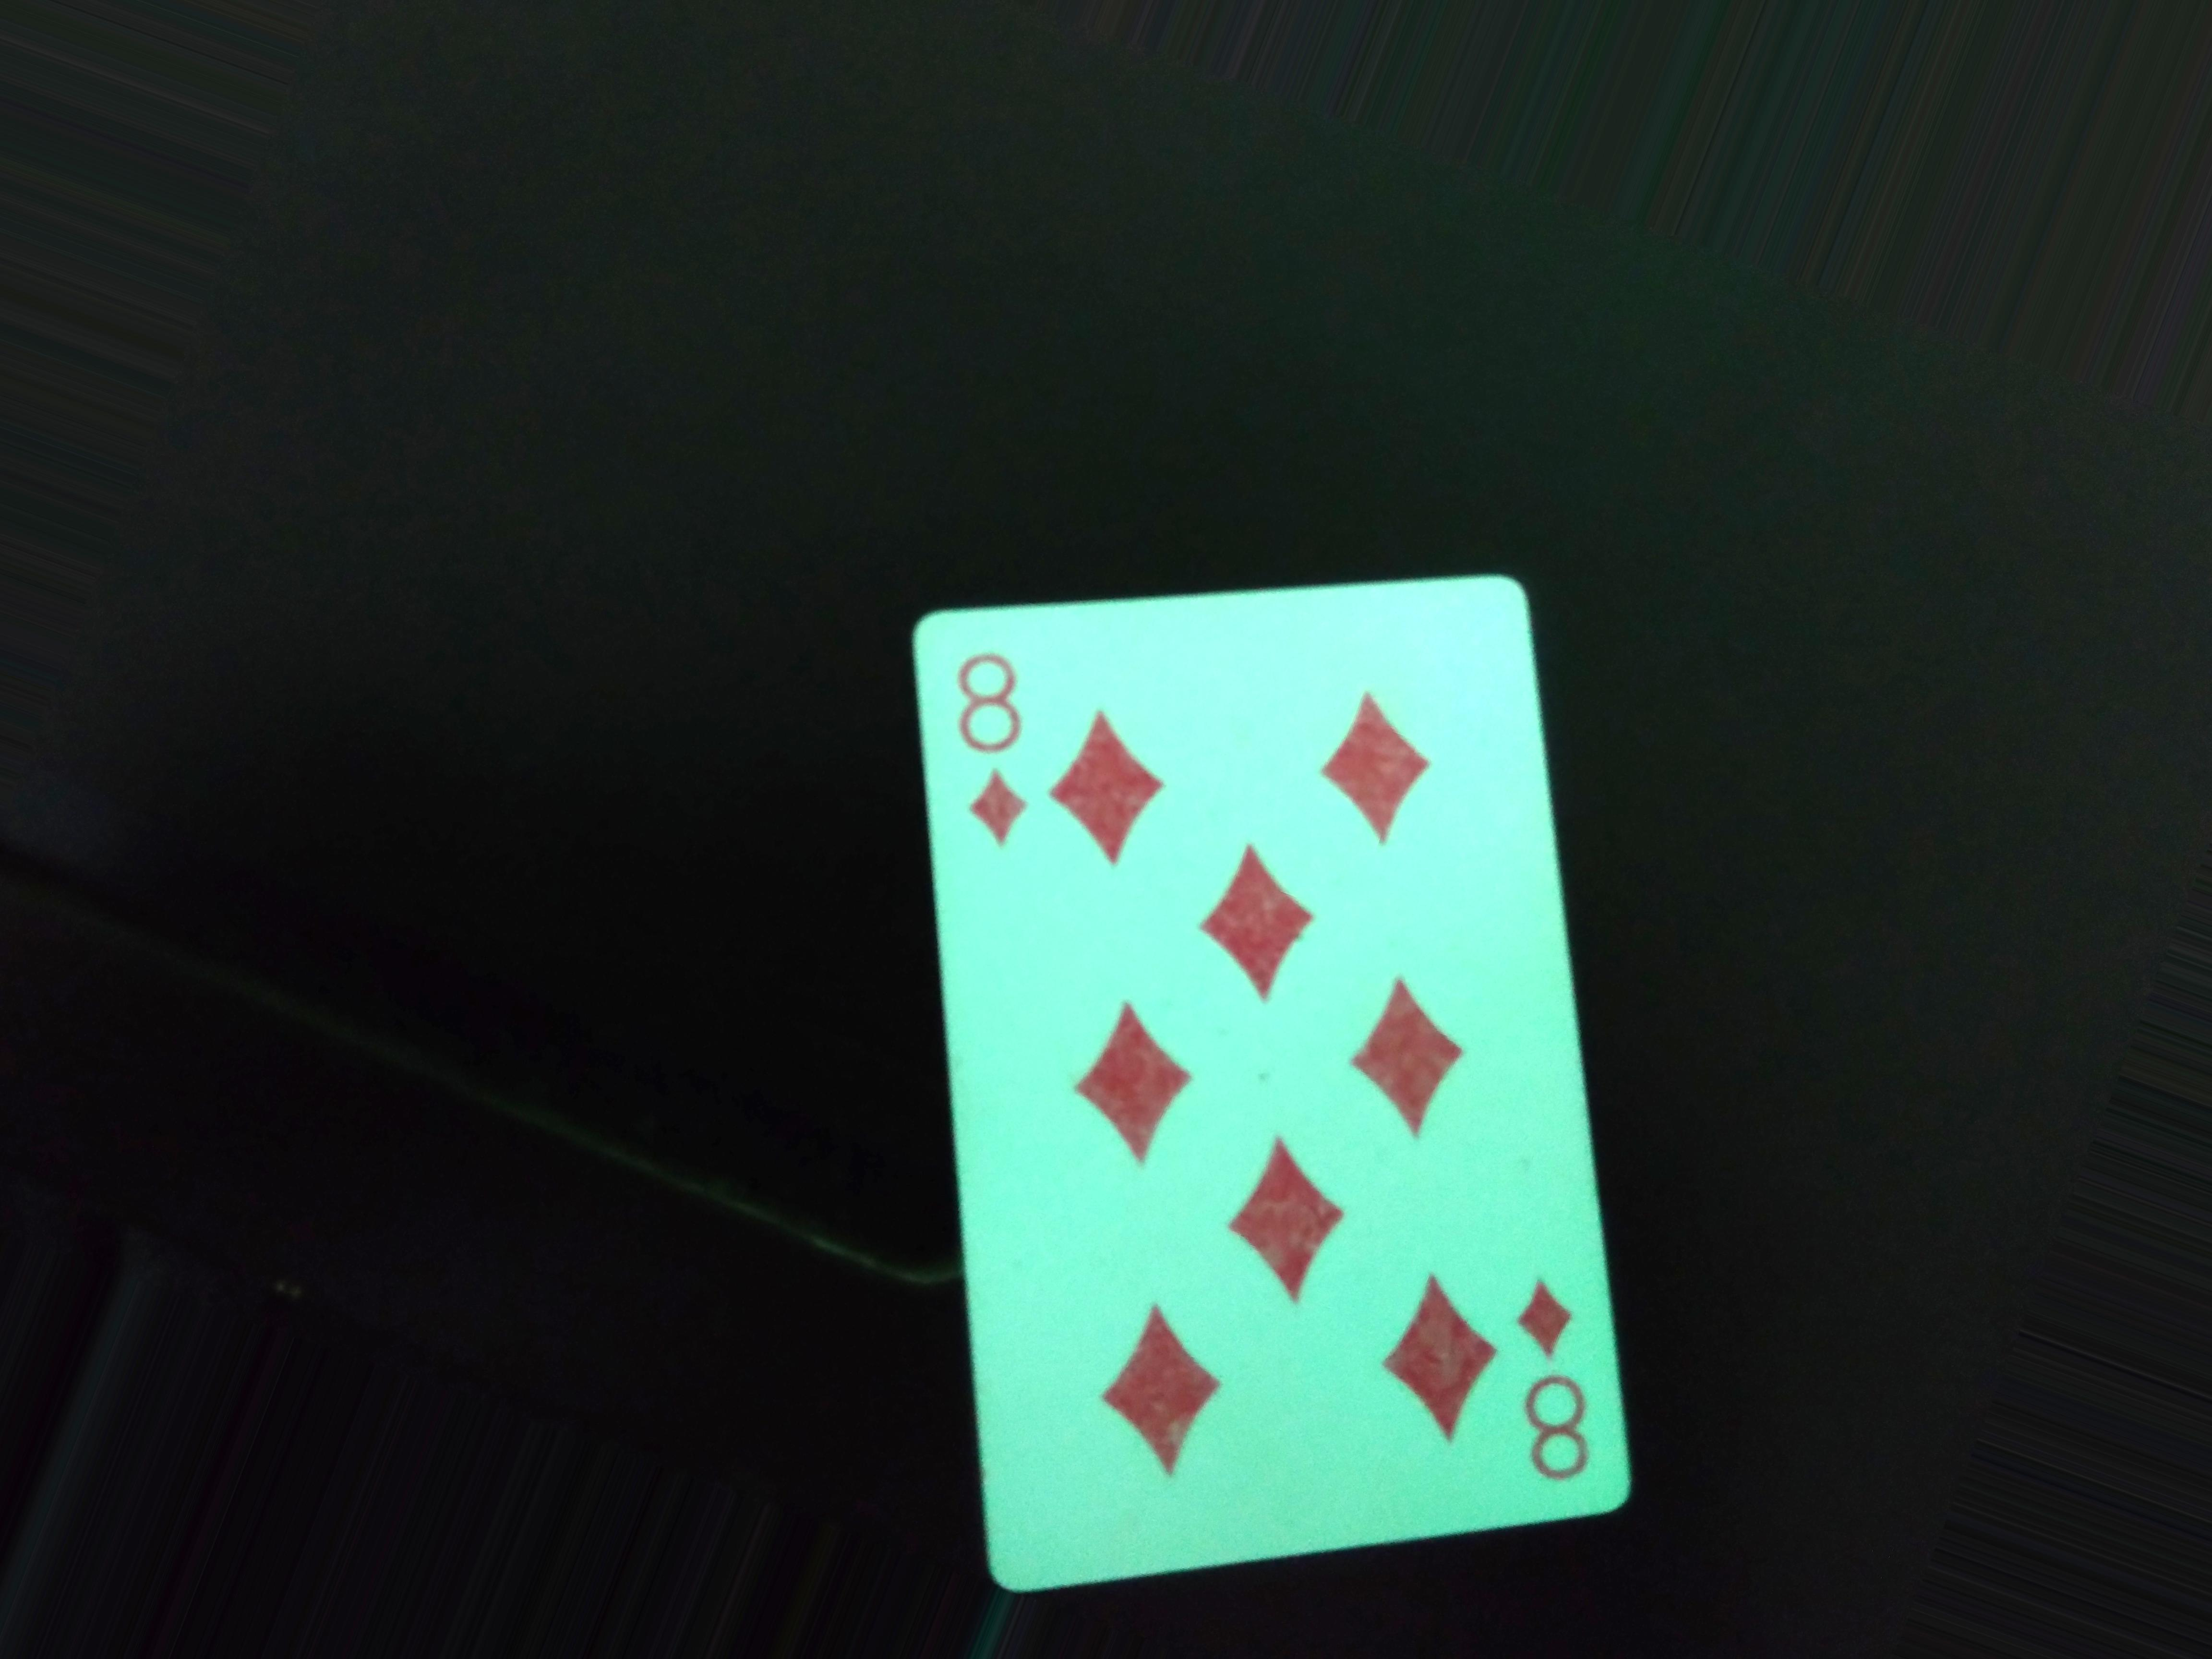8D: (934, 636, 1082, 861)
